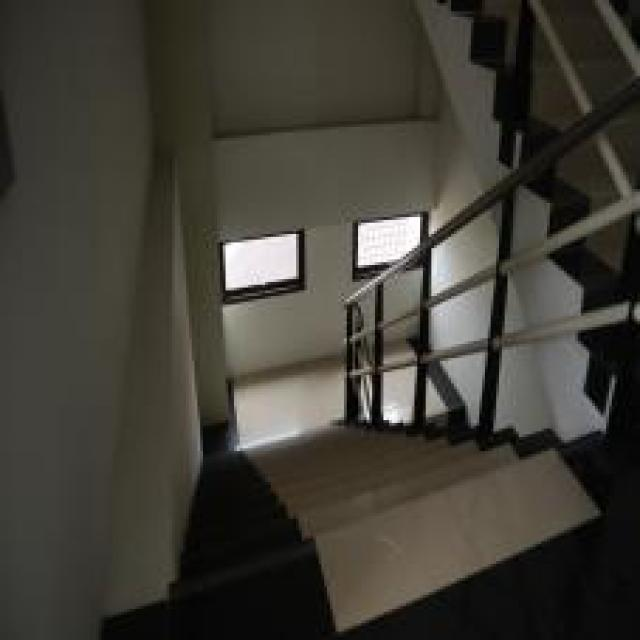downstair: (204, 435, 475, 616)
